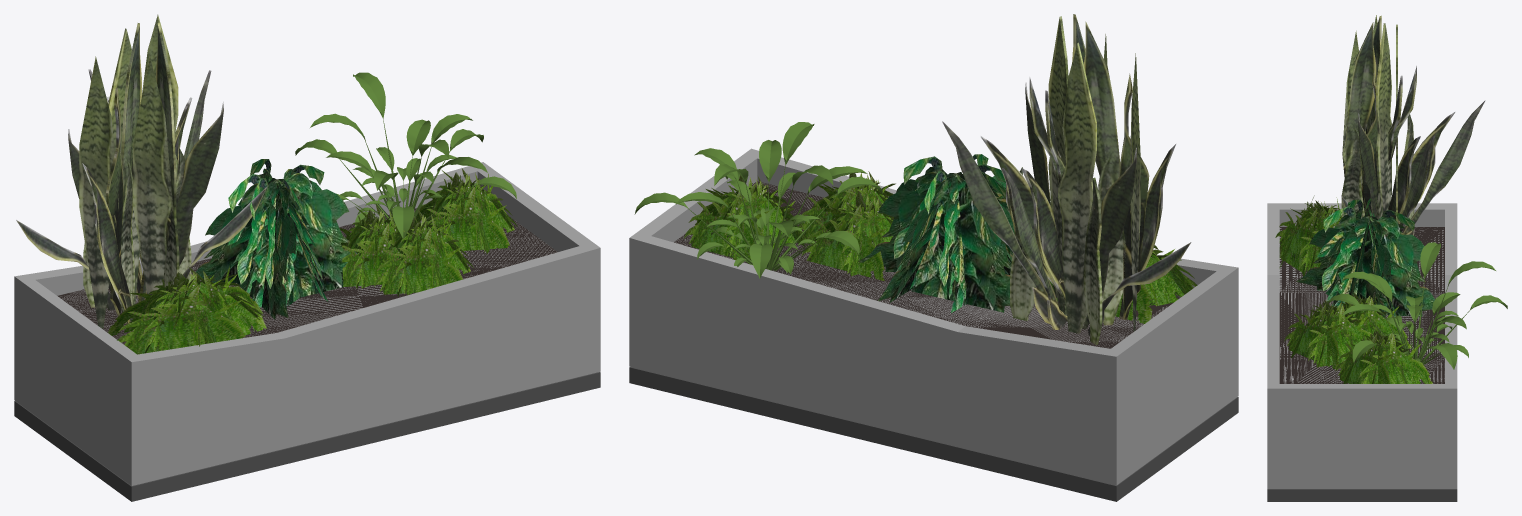
3 renders of one model, left to right at view 1: azimuth 30°, elevation 25°; view 2: azimuth 150°, elevation 25°; view 3: azimuth 270°, elevation 25°, orthographic. The views are drawn at different scales.
Visible parts, largest first — view 1: Group73, Group74, Group25, Group5, Group6, Group3, Group7, Group4, Group11, Group26, Group8, Group46 (+14 smaller); view 2: Group73, Group4, Group6, Group74, Group28, Group3, Group8, Group26, Group29, Group36, Group27, Group64 (+7 smaller); view 3: Group73, Group8, Group27, Group3, Group6, Group74, Group29, Group61, Group26, Group53, Group47, Group18 (+14 smaller).
Part boxes in pixels (box(x1,y1,x2,y2)): Group73: box(14, 162, 600, 485); Group74: box(14, 372, 600, 501); Group25: box(227, 173, 357, 307); Group5: box(133, 56, 172, 294); Group6: box(106, 23, 211, 323); Group3: box(83, 14, 267, 307); Group7: box(79, 56, 118, 328); Group4: box(16, 28, 191, 310); Group11: box(117, 285, 245, 354); Group26: box(236, 159, 296, 319); Group8: box(88, 22, 179, 298); Group46: box(374, 227, 463, 294); Group73: box(629, 148, 1238, 485); Group4: box(1010, 42, 1191, 335); Group6: box(942, 21, 1149, 325); Group74: box(629, 367, 1238, 501); Group28: box(893, 156, 1014, 312); Group3: box(1025, 16, 1102, 344); Group8: box(1002, 14, 1092, 329); Group26: box(924, 165, 1011, 312); Group29: box(858, 164, 1009, 271); Group36: box(801, 204, 887, 280); Group27: box(878, 154, 988, 302); Group64: box(684, 192, 769, 261); Group73: box(1267, 203, 1457, 488); Group8: box(1341, 22, 1485, 235); Group27: box(1317, 206, 1435, 316); Group3: box(1341, 23, 1414, 227); Group6: box(1361, 15, 1435, 231); Group74: box(1267, 489, 1457, 501); Group29: box(1325, 199, 1391, 317); Group61: box(1359, 334, 1432, 383); Group26: box(1296, 210, 1414, 290); Group53: box(1284, 303, 1342, 370); Group47: box(1308, 304, 1373, 367); Group18: box(1275, 208, 1321, 272).
Bounding box in the file's own units: 76.14 × 59.22 × 38.82.
